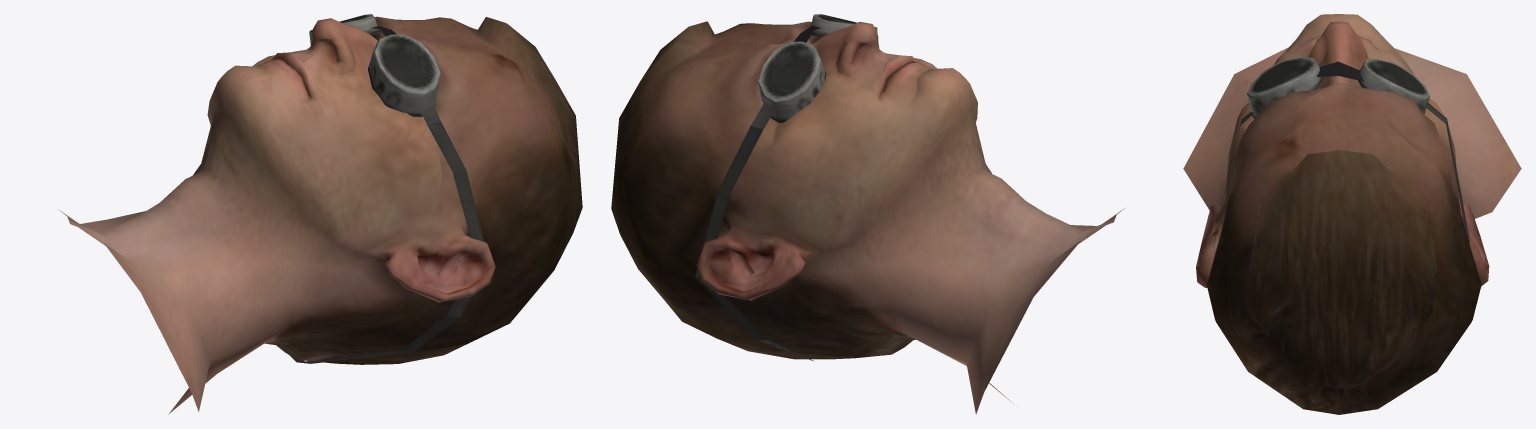
File: head_german_afrca_eric.glb
3 renders of one model, left to right at view 1: azimuth 30°, elevation 25°; view 2: azimuth 150°, elevation 25°; view 3: azimuth 270°, elevation 25°, orthographic. The views are drawn at different scales.
Size of the model in its own units: 14.8 by 10.07 by 9.35.
Materials: 2 (2 with a texture image).
